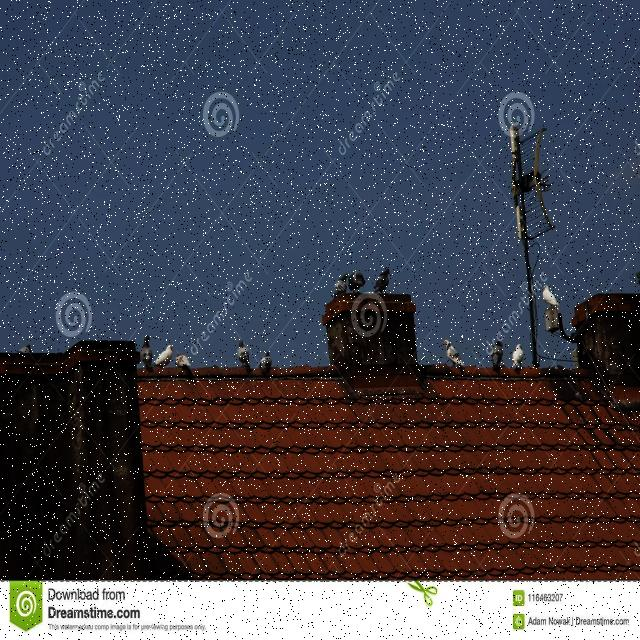bird: (442, 338, 466, 376), (235, 338, 252, 375), (486, 339, 504, 372), (153, 343, 174, 370), (140, 334, 154, 373), (373, 268, 391, 296), (333, 271, 349, 299), (258, 351, 272, 378), (511, 344, 525, 369), (175, 352, 192, 372)
